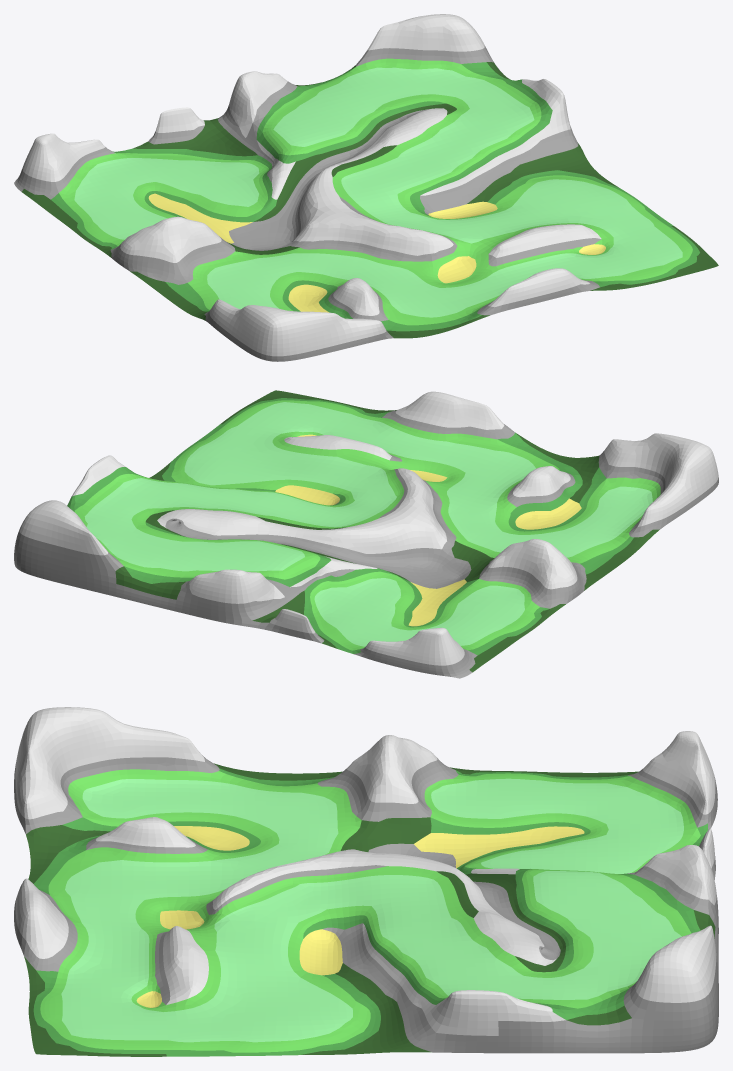
Rendered from map.fbx.
3 views of the same model, one above another, from view 1: azimuth 30°, elevation 25°; view 2: azimuth 150°, elevation 25°; view 3: azimuth 270°, elevation 25° (orthographic). The views are drawn at different scales.
Parts seen in each view (by area): view 1: sand.001; view 2: sand.001; view 3: sand.001.
Part boxes in pixels (x1=…): sand.001: x1=14, y1=14, x2=718, y2=361; sand.001: x1=14, y1=390, x2=718, y2=678; sand.001: x1=14, y1=707, x2=718, y2=1056.
Bounding box in the file's own units: 9873 × 1617 × 9880.
